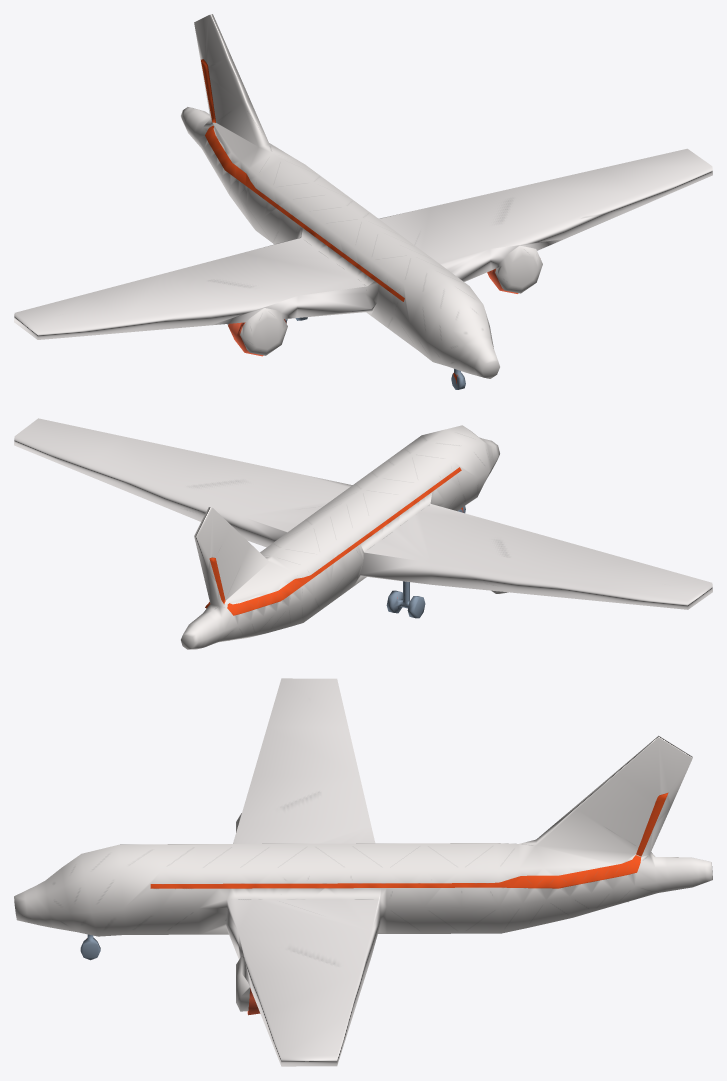
The picture shows the model from 3 angles, top to bottom: view 1: azimuth 30°, elevation 25°; view 2: azimuth 150°, elevation 25°; view 3: azimuth 270°, elevation 25°; orthographic projection. The views are drawn at different scales.
Visible parts, largest first — view 1: unamed; view 2: unamed; view 3: unamed.
Boxes of the visible parts, x1,y1,x2,y2 form: unamed: (14, 14, 712, 389); unamed: (14, 418, 712, 649); unamed: (14, 678, 712, 1066).
Size of the model in its own units: 3.31 by 0.9073 by 2.59.
1 material, 1 textured.
